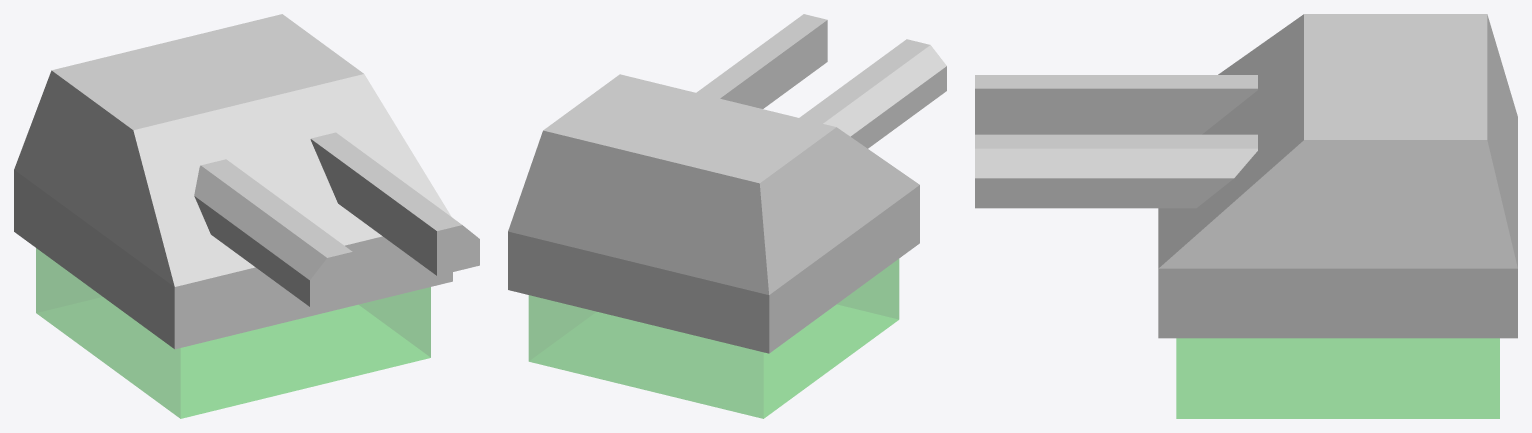
File: cannon.gltf
The picture shows the model from 3 angles, left to right: view 1: azimuth 30°, elevation 25°; view 2: azimuth 150°, elevation 25°; view 3: azimuth 270°, elevation 25°; orthographic projection. The views are drawn at different scales.
Visible parts, largest first — view 1: Cube.001, Cube, Cube.002; view 2: Cube.001, Cube, Cube.002; view 3: Cube.001, Cube.002, Cube.
Boxes of the visible parts, box(x1,y1,x2,y2) form: Cube.001: box(14, 14, 452, 349); Cube: box(36, 248, 430, 418); Cube.002: box(194, 132, 479, 306); Cube.001: box(508, 74, 919, 353); Cube: box(528, 259, 899, 418); Cube.002: box(696, 14, 946, 148); Cube.001: box(1158, 14, 1517, 338); Cube.002: box(975, 75, 1257, 208); Cube: box(1176, 338, 1499, 418).
Size of the model in its own units: 10 by 8.4 by 15.1.
